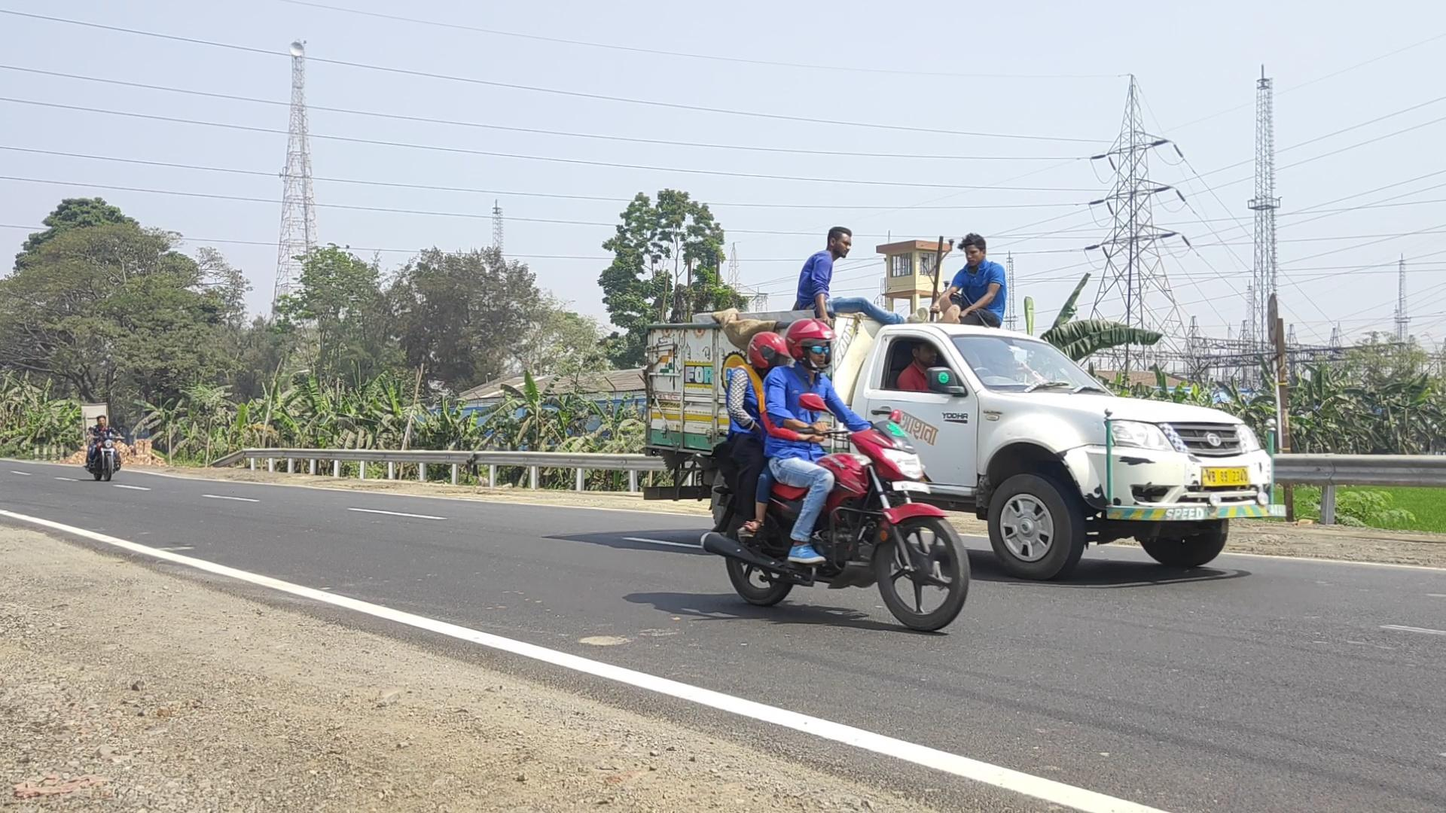bike: (700, 318, 970, 632), (84, 415, 124, 481)
van: (642, 226, 1285, 581)
